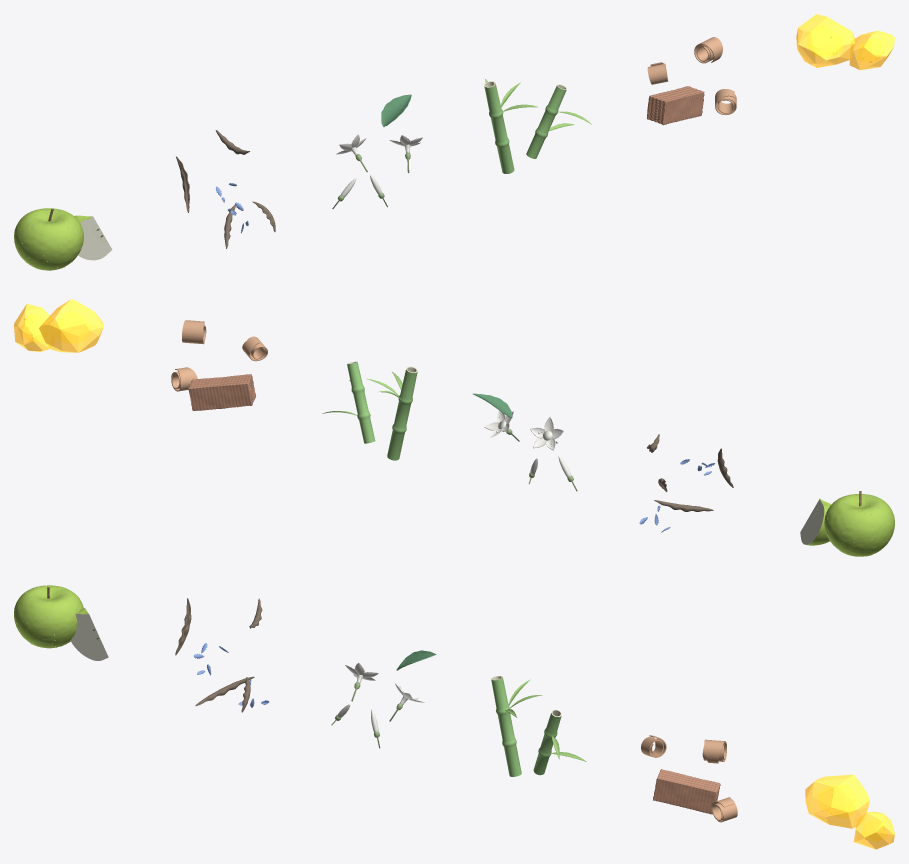
File: cithea_ingredients_3d.glb
3 views of the same model, one above another, from view 1: azimuth 30°, elevation 25°; view 2: azimuth 150°, elevation 25°; view 3: azimuth 330°, elevation 25° (orthographic).
Parts seen in each view (by area): view 1: apple_body, amber_chunk_1, cedar_block, amber_chunk_2, bamboo_stalk_1, bamboo_stalk_2, amber_core_1, apple_wedge_flesh, cedar_curl_1, jasmine_leaf; view 2: apple_body, amber_chunk_1, cedar_block, amber_chunk_2, bamboo_stalk_1, bamboo_stalk_2, amber_core_1, apple_wedge_flesh, cedar_curl_1; view 3: apple_body, amber_chunk_1, cedar_block, bamboo_stalk_1, amber_chunk_2, amber_core_1, apple_wedge_flesh, bamboo_stalk_2.
Boxes of the visible parts, box(x1,y1,x2,y2) form: apple_body: box(14, 208, 83, 270); amber_chunk_1: box(796, 14, 854, 67); cedar_block: box(647, 86, 704, 125); amber_chunk_2: box(849, 30, 894, 69); bamboo_stalk_1: box(484, 84, 514, 173); bamboo_stalk_2: box(526, 86, 566, 158); amber_core_1: box(807, 25, 842, 57); apple_wedge_flesh: box(78, 216, 112, 260); cedar_curl_1: box(694, 37, 722, 63); jasmine_leaf: box(381, 94, 411, 126); apple_body: box(824, 494, 894, 556); amber_chunk_1: box(39, 299, 103, 352); cedar_block: box(188, 374, 255, 410); amber_chunk_2: box(14, 304, 54, 351); bamboo_stalk_1: box(387, 369, 417, 460); bamboo_stalk_2: box(347, 362, 375, 443); amber_core_1: box(52, 311, 90, 342); apple_wedge_flesh: box(800, 499, 824, 544); cedar_curl_1: box(182, 320, 206, 344); apple_body: box(14, 585, 83, 648); amber_chunk_1: box(805, 774, 869, 828); cedar_block: box(653, 769, 720, 814); bamboo_stalk_1: box(491, 677, 521, 776); amber_chunk_2: box(854, 811, 894, 849); amber_core_1: box(818, 785, 856, 817); apple_wedge_flesh: box(70, 614, 108, 660); bamboo_stalk_2: box(533, 713, 561, 775).
Size of the model in its own units: 19 by 2 by 1.54.
